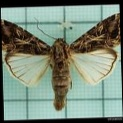Spodoptera litura: (1, 14, 120, 111)
